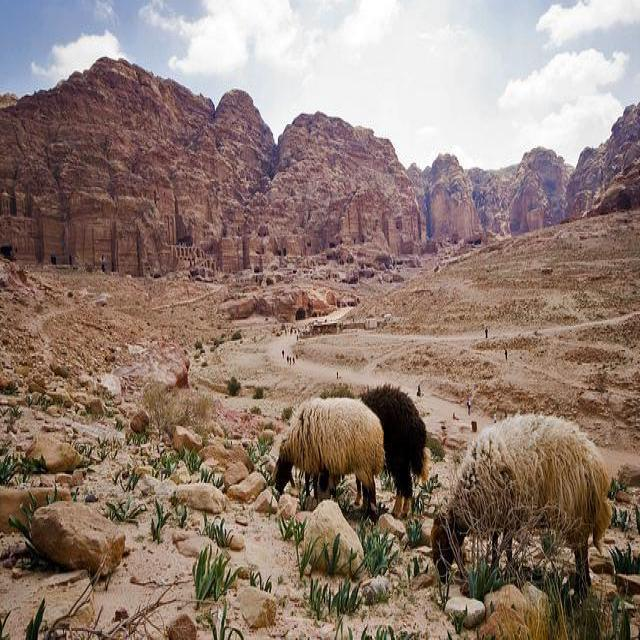Sheep: (429, 422, 612, 606), (271, 401, 385, 511), (359, 386, 430, 519)
